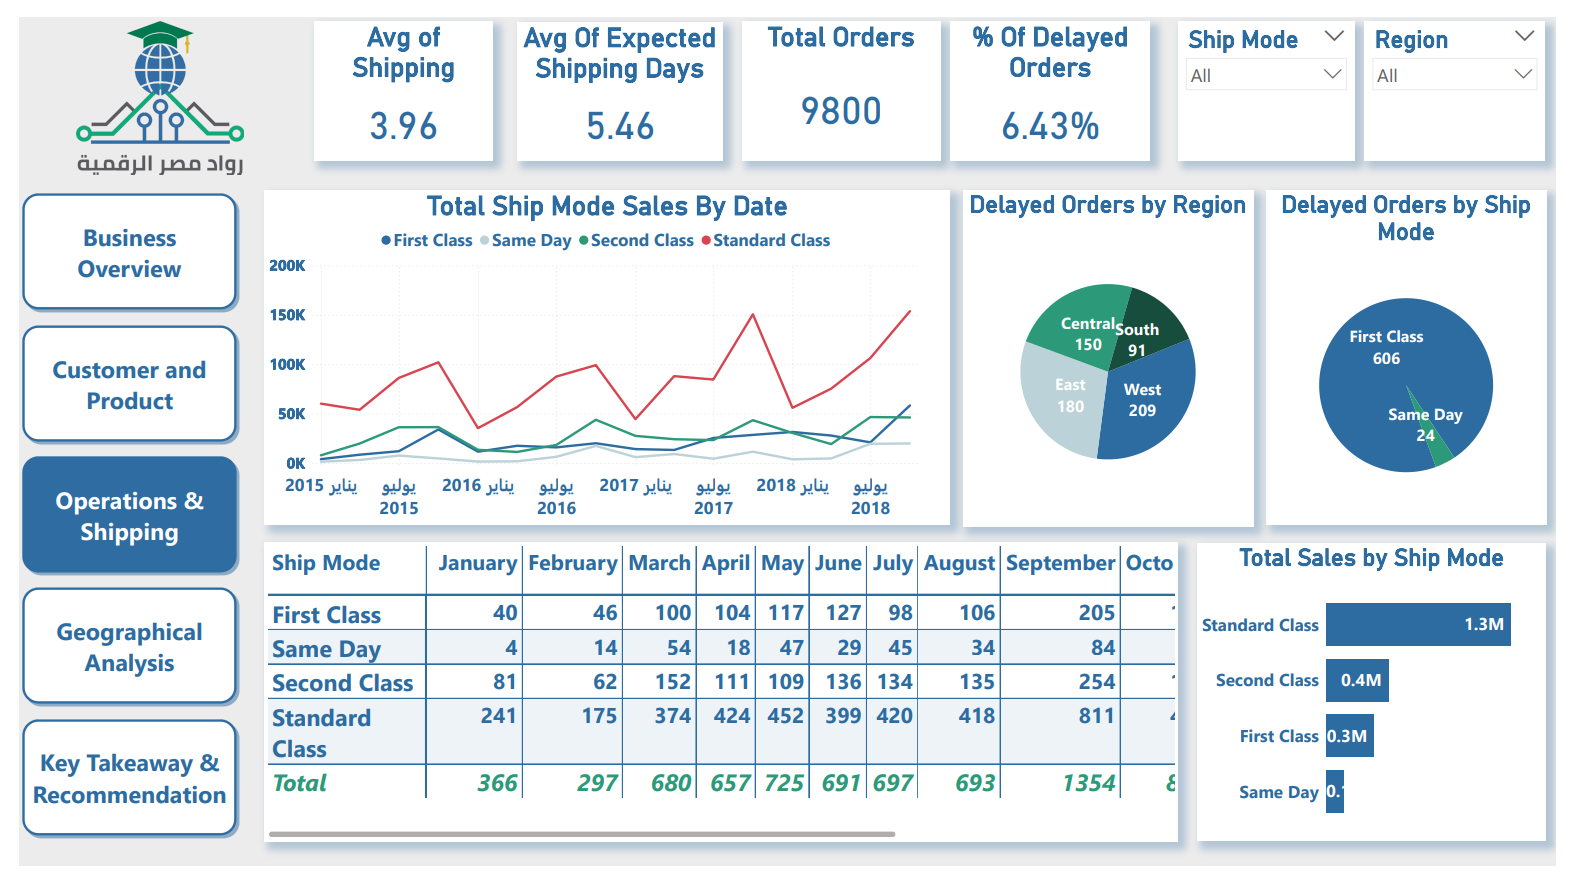

This screenshot's page, from the dashboard's own definition file:
{"tool":"powerbi","page":{"name":"Operations & Shipping","canvas":[1920,1080],"ordinal":2},"visuals":[{"type":"card","title":"Avg Of Shipping Days","fields":{"Values":["Avg(Superstore Sales Dataset.Shipping Duration)"]},"box":[903,5.4,247.9,173.7],"z":0},{"type":"card","title":"% Of Delayed Orders","fields":{"Values":["Superstore Sales Dataset.Delayed Shipment Percentage"]},"box":[1163.6,5.4,249.7,173.7],"z":1000},{"type":"card","title":"Avg Of Expected Shipping Days","fields":{"Values":["Avg(Superstore Sales Dataset.Expected Shipping Duration)"]},"box":[622.5,0,257,179.2],"z":2000},{"type":"barChart","fields":{"Category":["Superstore Sales Dataset.Ship Mode"],"Y":["Superstore Sales Dataset.Total Sales"]},"box":[1471.3,685.9,436.1,376.4],"z":3000},{"type":"pieChart","title":"Delayed Orders by Ship Mode","fields":{"Category":["Superstore Sales Dataset.Ship Mode"],"Y":["Sum(Superstore Sales Dataset.Delayed Shipment)"]},"box":[1558.1,240.7,349.3,418],"z":4000},{"type":"lineChart","title":"Total Ship Mode Sales By Date","fields":{"Category":["Superstore Sales Dataset.Order Date.Variation.Date Hierarchy.Year","Superstore Sales Dataset.Order Date.Variation.Date Hierarchy.Quarter"],"Y":["Sum(Superstore Sales Dataset.Sales)"],"Series":["Superstore Sales Dataset.Ship Mode"]},"box":[305.8,240.7,857.8,418],"z":5000},{"type":"pieChart","title":"Delayed Orders by Region","fields":{"Category":["Superstore Sales Dataset.Region"],"Y":["Sum(Superstore Sales Dataset.Delayed Shipment)"]},"box":[1183.5,238.9,361.9,419.8],"z":6000},{"type":"slicer","fields":{"Values":["Superstore Sales Dataset.Ship Mode"]},"box":[1447.7,5.4,220.8,173.7],"z":7000},{"type":"slicer","fields":{"Values":["Superstore Sales Dataset.Region"]},"box":[1681.2,5.4,226.2,173.7],"z":8000},{"type":"pivotTable","fields":{"Rows":["Superstore Sales Dataset.Ship Mode"],"Values":["Superstore Sales Dataset.Total Orders"],"Columns":["Superstore Sales Dataset.Order Date.Variation.Date Hierarchy.Month"]},"box":[305.8,685.9,1141.9,376.4],"z":9000},{"type":"pageNavigator","box":[0,240.7,262.4,836.1],"z":10000},{"type":"image","box":[0,0,398.1,202.7],"z":11000},{"type":"card","title":"Avg of Shipping","fields":{"Values":["Avg(Superstore Sales Dataset.Shipping Duration)"]},"box":[369.2,5.4,222.6,173.7],"z":12000}]}

Visuals, with their boxes in screenshot pixels (x1, y1, x2, y2), scaled from the page's 1920x1080 canvas onto the 1575x883 screenshot:
"Avg Of Shipping Days" card: region(741, 4, 944, 146)
"% Of Delayed Orders" card: region(955, 4, 1159, 146)
"Avg Of Expected Shipping Days" card: region(511, 0, 721, 147)
barChart - Superstore Sales Dataset.Ship Mode x Superstore Sales Dataset.Total Sales: region(1207, 561, 1565, 869)
"Delayed Orders by Ship Mode" pieChart: region(1278, 197, 1565, 539)
"Total Ship Mode Sales By Date" lineChart: region(251, 197, 955, 539)
"Delayed Orders by Region" pieChart: region(971, 195, 1268, 539)
slicer - Superstore Sales Dataset.Ship Mode: region(1188, 4, 1369, 146)
slicer - Superstore Sales Dataset.Region: region(1379, 4, 1565, 146)
pivotTable - Superstore Sales Dataset.Ship Mode x Superstore Sales Dataset.Total Orders: region(251, 561, 1188, 869)
pageNavigator: region(0, 197, 215, 880)
image: region(0, 0, 327, 166)
"Avg of Shipping" card: region(303, 4, 485, 146)
